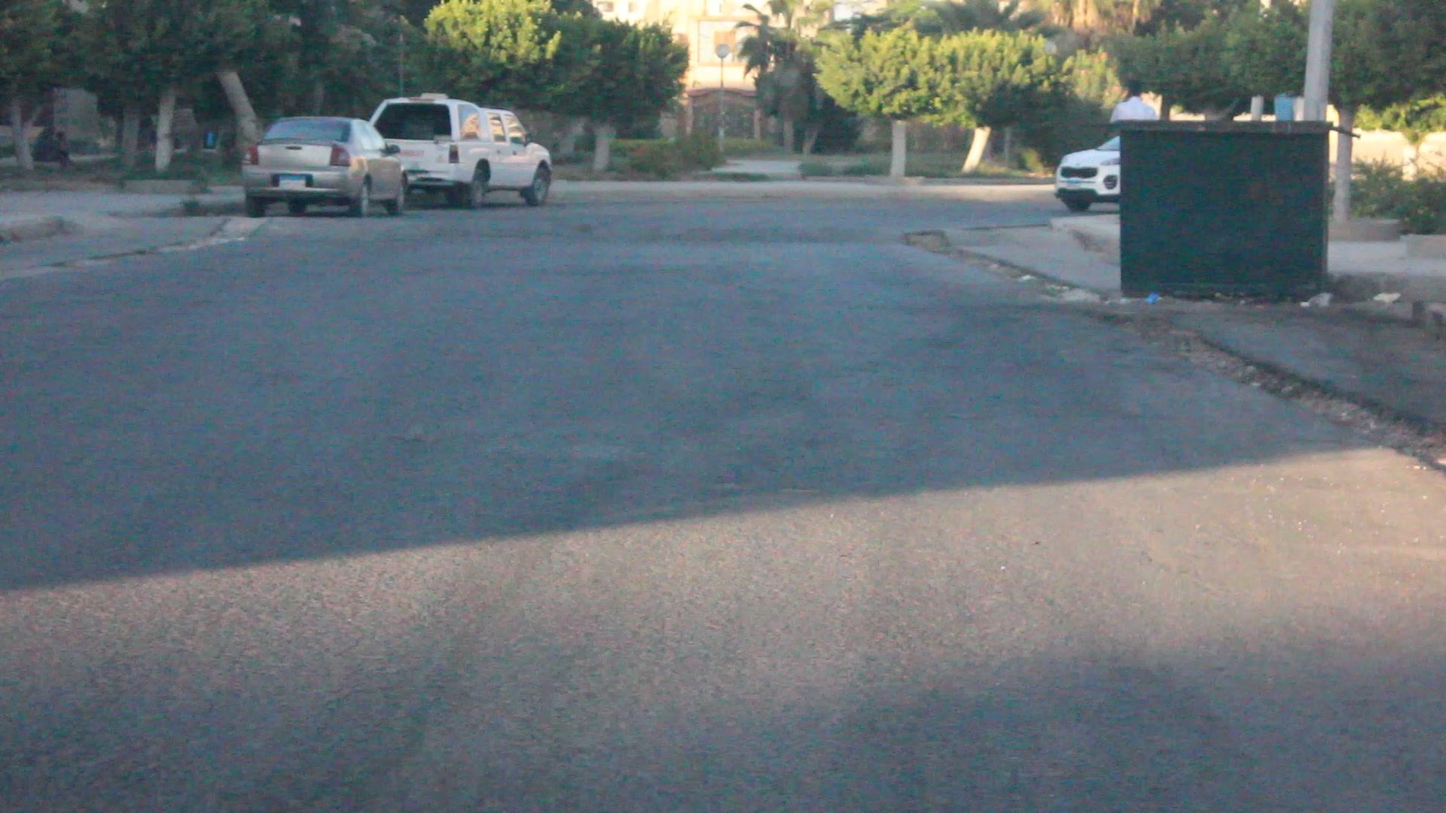Bump: (228, 209, 908, 248)
